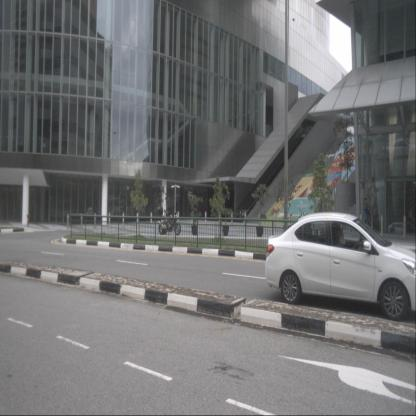human-pedestrian-adult: (361, 197, 370, 236)
vehicle-car: (265, 212, 415, 322)
vehicle-motorcycle: (157, 206, 181, 235)
